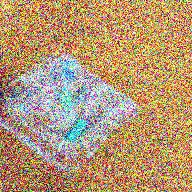러키펜정: (62, 59, 80, 72)
씨엠지세파클러캡슐: (62, 70, 76, 93)
에르도캡슐: (63, 119, 90, 143)
휴티렌정: (59, 91, 74, 110)
